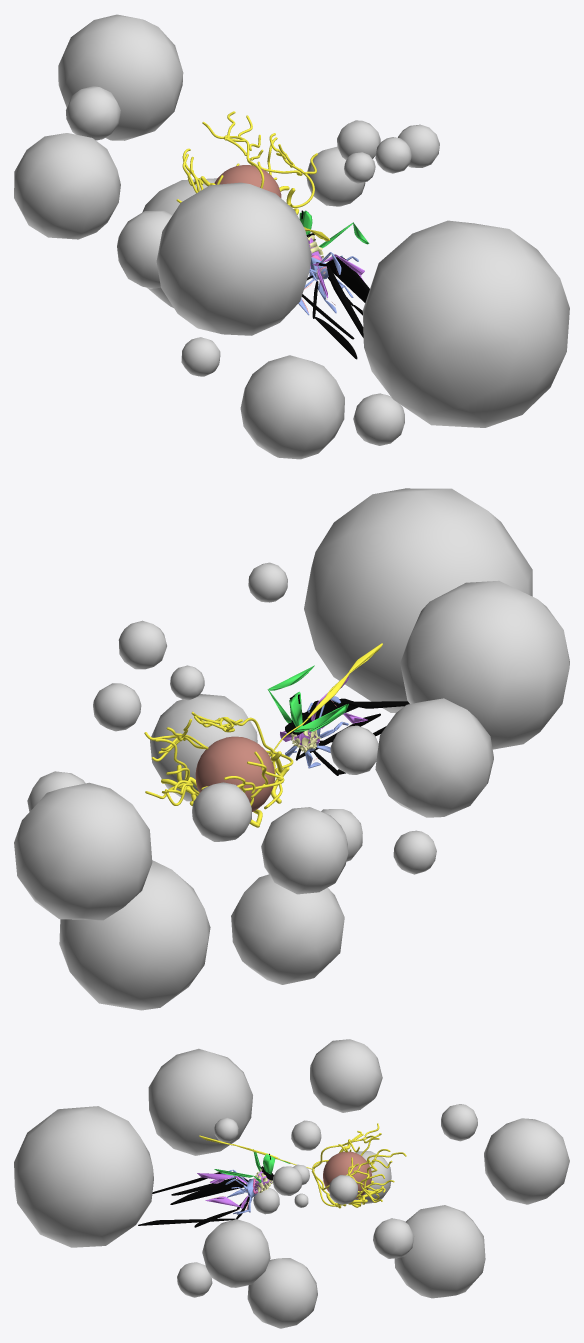
The picture shows the model from 3 angles, top to bottom: view 1: azimuth 30°, elevation 25°; view 2: azimuth 150°, elevation 25°; view 3: azimuth 270°, elevation 25°; orthographic projection. The views are drawn at different scales.
Visible parts, largest first — view 1: p.0530, p.0529, p.0536, p.0532, p.0524, p.0522, p.0535, p.0533, p.0526, p.0518, p.0534, p.0519 (+5 smaller); view 2: p.0530, p.0529, p.0536, p.0534, p.0532, p.0524, p.0522, p.0523, p.0463, p.0535, p.0521, p.0519 (+6 smaller); view 3: p.0530, p.0529, p.0534, p.0536, p.0532, p.0524, p.0523, p.0533, p.0463, p.0535, p.0526, p.0522 (+7 smaller).
Boxes of the visible parts, x1=… form: p.0530: x1=362, y1=220, x2=569, y2=427; p.0529: x1=156, y1=182, x2=311, y2=335; p.0536: x1=58, y1=14, x2=183, y2=140; p.0532: x1=14, y1=133, x2=120, y2=239; p.0524: x1=240, y1=355, x2=344, y2=459; p.0522: x1=117, y1=210, x2=172, y2=288; p.0535: x1=66, y1=86, x2=120, y2=140; p.0533: x1=306, y1=147, x2=365, y2=206; p.0526: x1=353, y1=393, x2=404, y2=445; p.0518: x1=337, y1=120, x2=380, y2=159; p.0534: x1=142, y1=178, x2=216, y2=307; p.0519: x1=398, y1=124, x2=439, y2=167; p.0530: x1=304, y1=488, x2=532, y2=712; p.0529: x1=400, y1=580, x2=569, y2=749; p.0536: x1=14, y1=782, x2=152, y2=920; p.0534: x1=59, y1=860, x2=210, y2=1010; p.0532: x1=375, y1=698, x2=493, y2=817; p.0524: x1=231, y1=874, x2=344, y2=984; p.0522: x1=261, y1=807, x2=348, y2=894; p.0523: x1=150, y1=694, x2=257, y2=801; p.0463: x1=195, y1=736, x2=274, y2=811; p.0535: x1=192, y1=782, x2=251, y2=841; p.0521: x1=330, y1=725, x2=378, y2=774; p.0519: x1=118, y1=620, x2=166, y2=669; p.0530: x1=14, y1=1106, x2=153, y2=1247; p.0529: x1=148, y1=1048, x2=252, y2=1155; p.0534: x1=394, y1=1205, x2=485, y2=1298; p.0536: x1=484, y1=1118, x2=569, y2=1204; p.0532: x1=310, y1=1039, x2=382, y2=1112; p.0524: x1=247, y1=1258, x2=317, y2=1328; p.0523: x1=202, y1=1219, x2=270, y2=1287; p.0533: x1=373, y1=1218, x2=414, y2=1258; p.0463: x1=323, y1=1151, x2=371, y2=1199; p.0535: x1=441, y1=1104, x2=477, y2=1141; p.0526: x1=177, y1=1262, x2=212, y2=1297; p.0522: x1=354, y1=1151, x2=391, y2=1203.
Size of the model in its own units: 7.27 by 6.19 by 13.55.
